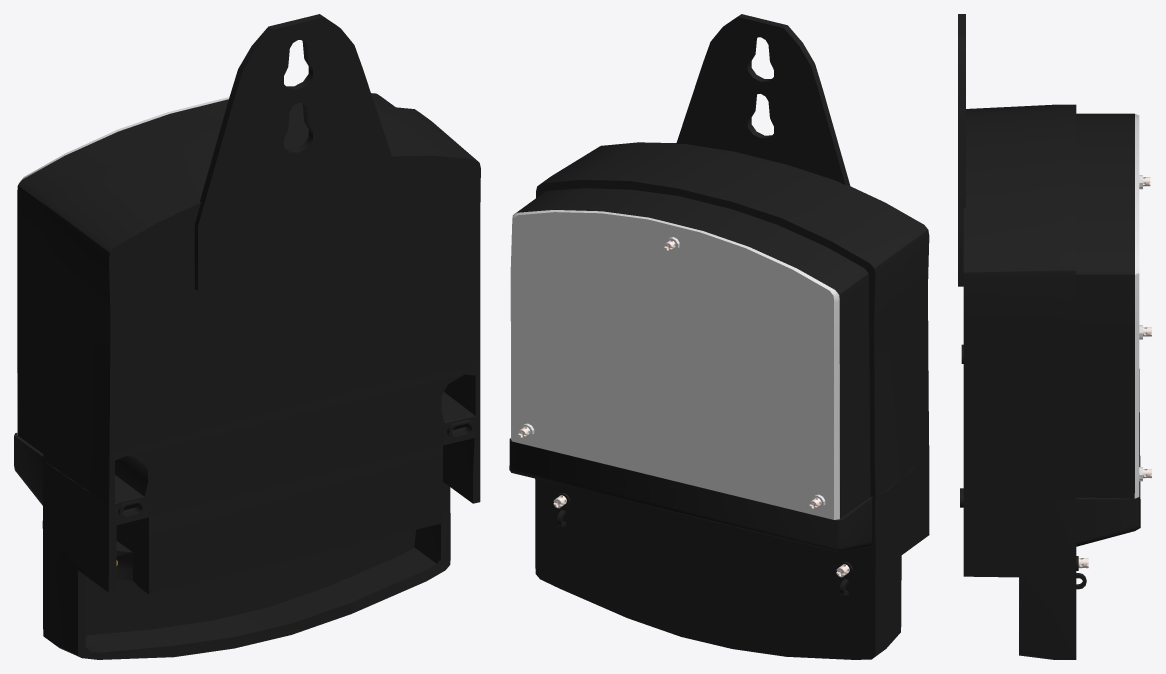
Rendered from Meter.fbx.
The picture shows the model from 3 angles, left to right: view 1: azimuth 30°, elevation 25°; view 2: azimuth 150°, elevation 25°; view 3: azimuth 270°, elevation 25°; orthographic projection. The views are drawn at different scales.
Visible parts, largest first — view 1: Panel_Verh, Panel_Niz; view 2: Steklo, Panel_Verh, Panel_Niz; view 3: Panel_Verh, Panel_Niz, Steklo.
Boxes of the visible parts, box(x1,y1,x2,y2) form: Panel_Verh: box(17, 14, 480, 594); Panel_Niz: box(14, 415, 480, 659); Steklo: box(510, 210, 839, 519); Panel_Verh: box(514, 14, 929, 518); Panel_Niz: box(509, 438, 929, 659); Panel_Verh: box(958, 14, 1134, 507); Panel_Niz: box(963, 369, 1140, 659); Steklo: box(1134, 114, 1142, 498).
Bounding box in the file's own units: 195 × 318 × 96.64.
Materials: 5 (2 with a texture image).
